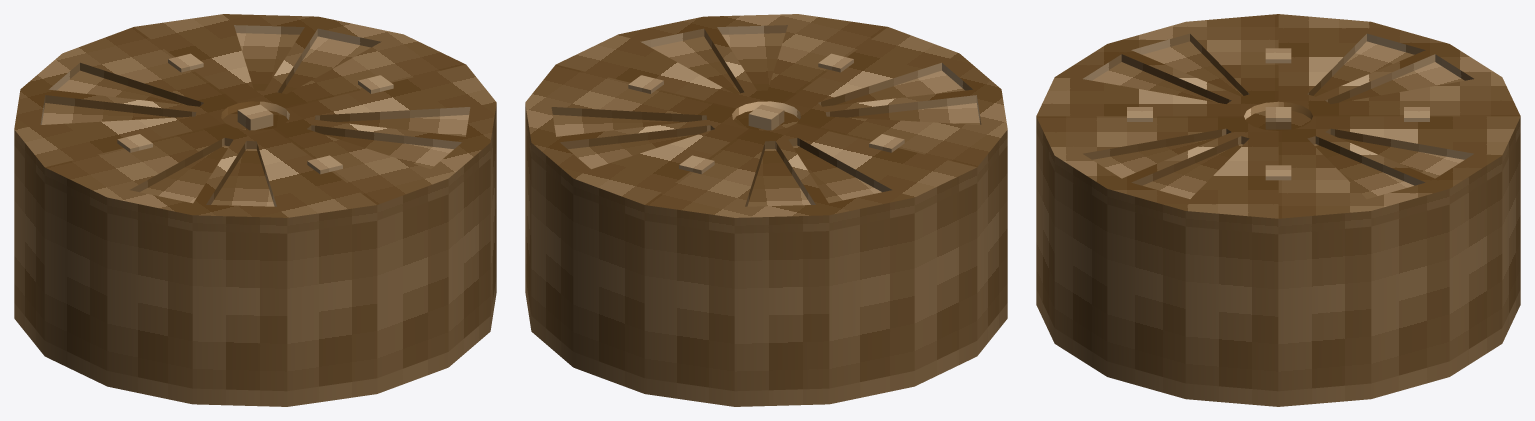
The model's file is watz.obj.
The picture shows the model from 3 angles, left to right: view 1: azimuth 30°, elevation 25°; view 2: azimuth 150°, elevation 25°; view 3: azimuth 270°, elevation 25°; orthographic projection.
Visible parts, largest first — view 1: Circle; view 2: Circle; view 3: Circle.
Boxes of the visible parts, box(x1,y1,x2,y2) form: Circle: box(14, 14, 496, 406); Circle: box(525, 14, 1007, 406); Circle: box(1036, 14, 1520, 406).
Size of the model in its own units: 7 by 3.12 by 7.
